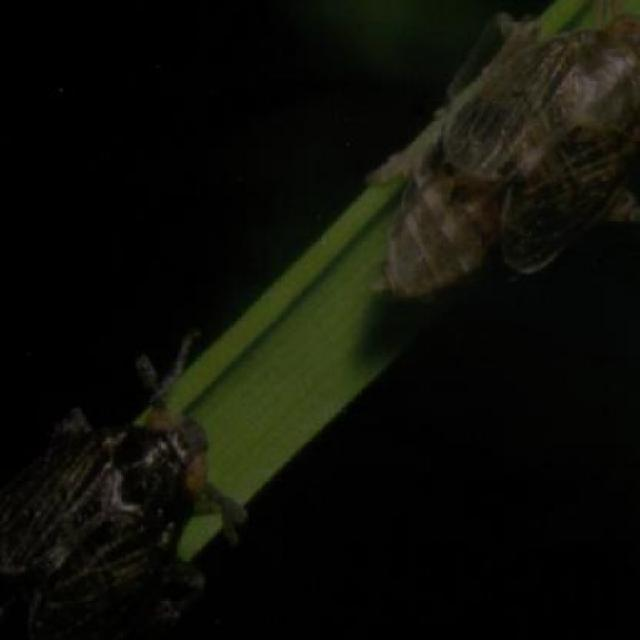rice-bug: (378, 11, 637, 297), (3, 357, 237, 638)
